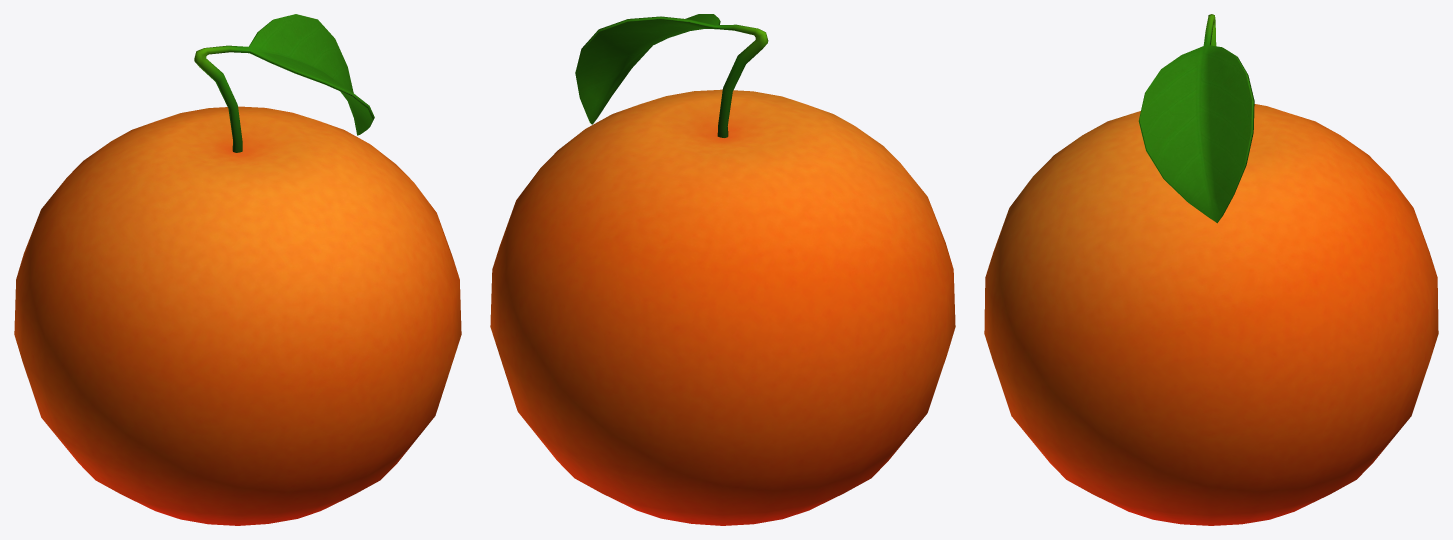
The model's file is Orange.fbx.
3 views of the same model, side by side, from view 1: azimuth 30°, elevation 25°; view 2: azimuth 150°, elevation 25°; view 3: azimuth 270°, elevation 25° (orthographic). The views are drawn at different scales.
Parts seen in each view (by area): view 1: Orange; view 2: Orange; view 3: Orange.
Part boxes in pixels (x1=…): Orange: x1=14, y1=14, x2=461, y2=525; Orange: x1=490, y1=14, x2=955, y2=525; Orange: x1=984, y1=14, x2=1438, y2=525.
Size of the model in its own units: 30.62 by 34.41 by 30.62.
